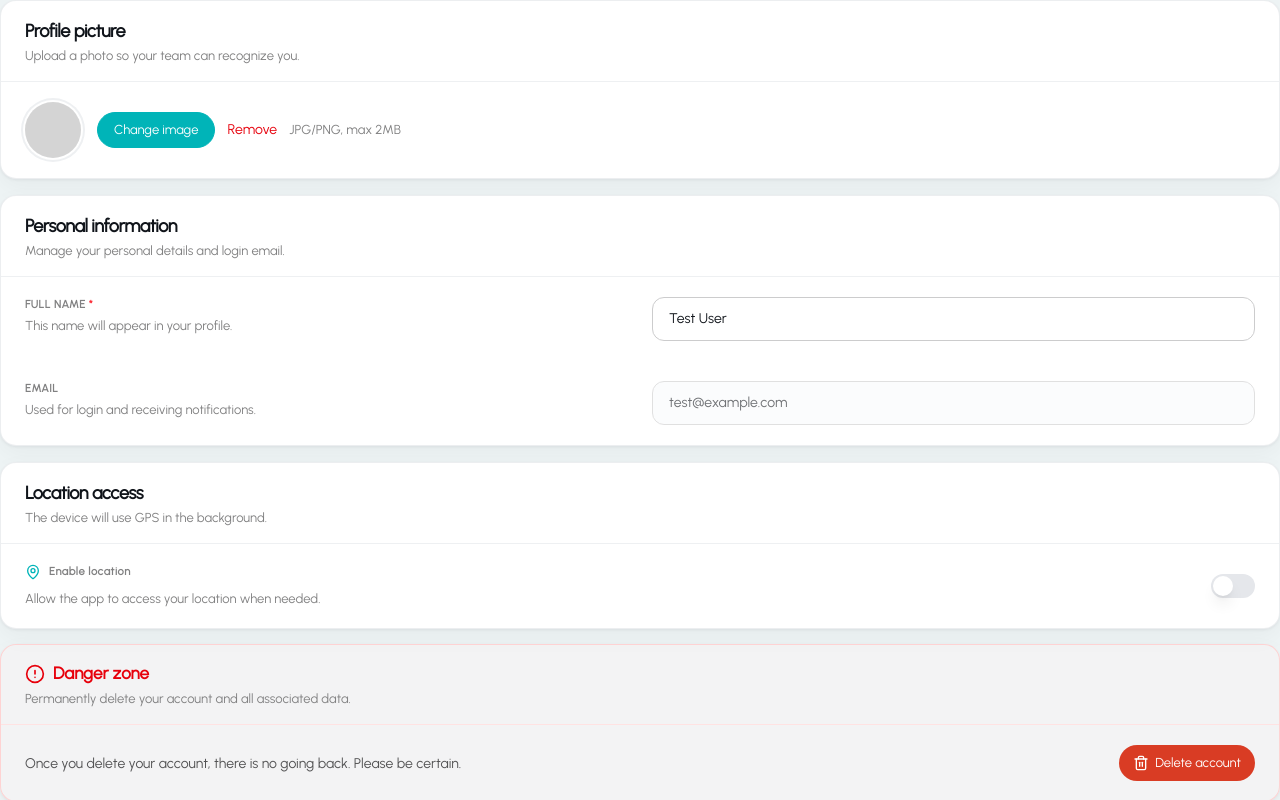
it: AccountTab › Image Upload › should clear temp image when remove button is clicked
Earlier steps of the test are not shown.
Expected: the field showing "Test User" in the row of "This name will appear in your profile." is shown, 652,297 -> 1255,341
Click the button "Remove" at (252, 130), box 228,120 -> 277,140
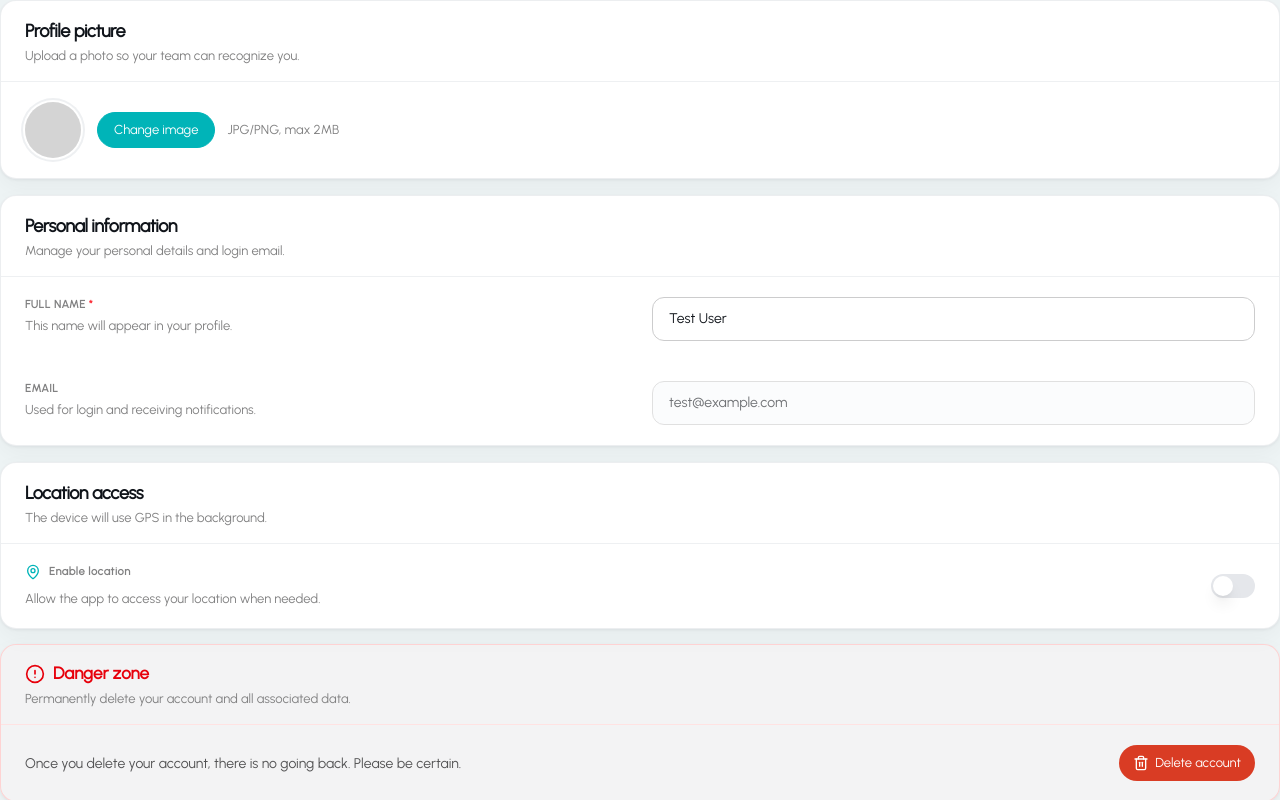
Now the button "Remove" is gone
